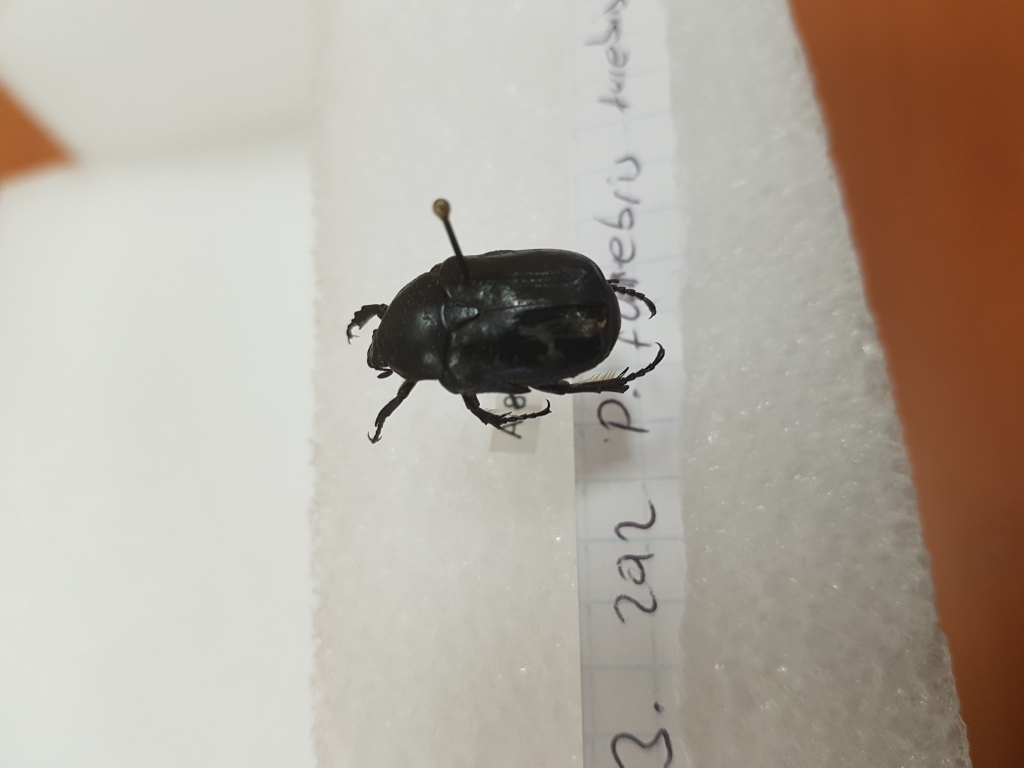Protaetia_funebris: (339, 243, 668, 446)
